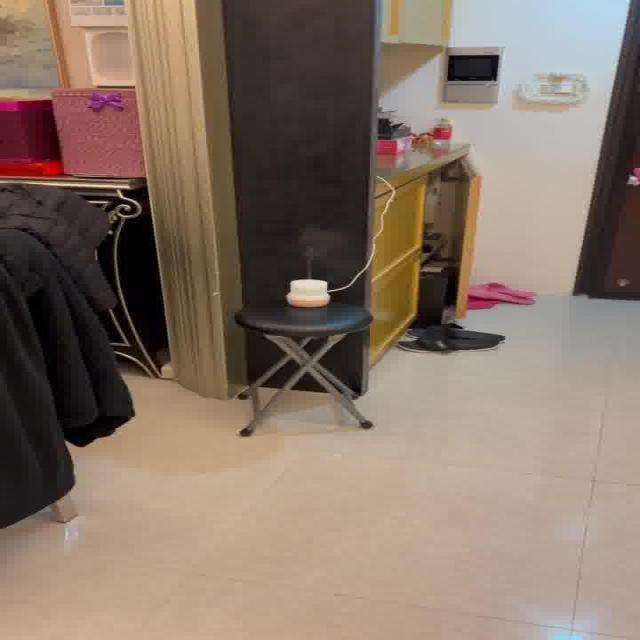fire: (293, 220, 347, 274)
